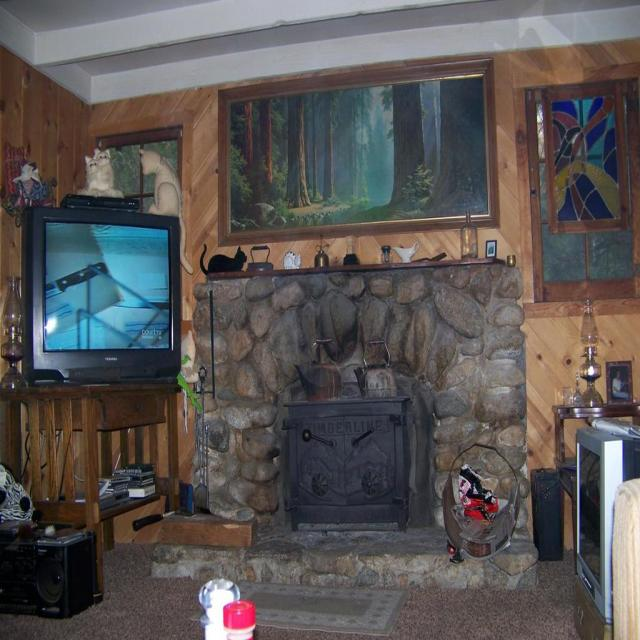desk: (21, 382, 180, 596)
tv: (24, 206, 180, 384), (572, 417, 640, 629)
